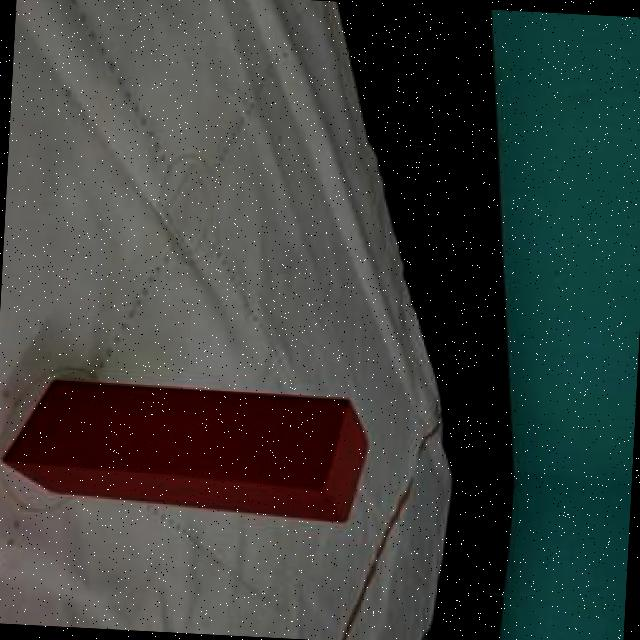redbox: (3, 377, 372, 522)
